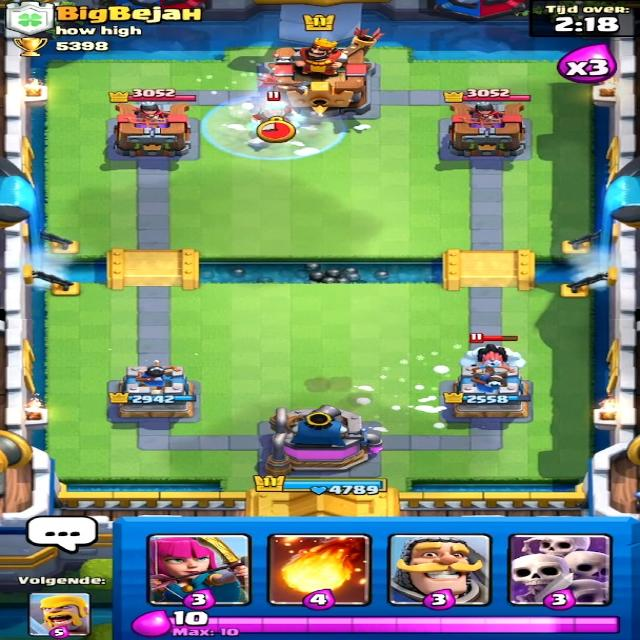Enemy_Ice_Golem_Troop: (461, 343, 534, 370)
Fireball_Card: (271, 536, 366, 607)
